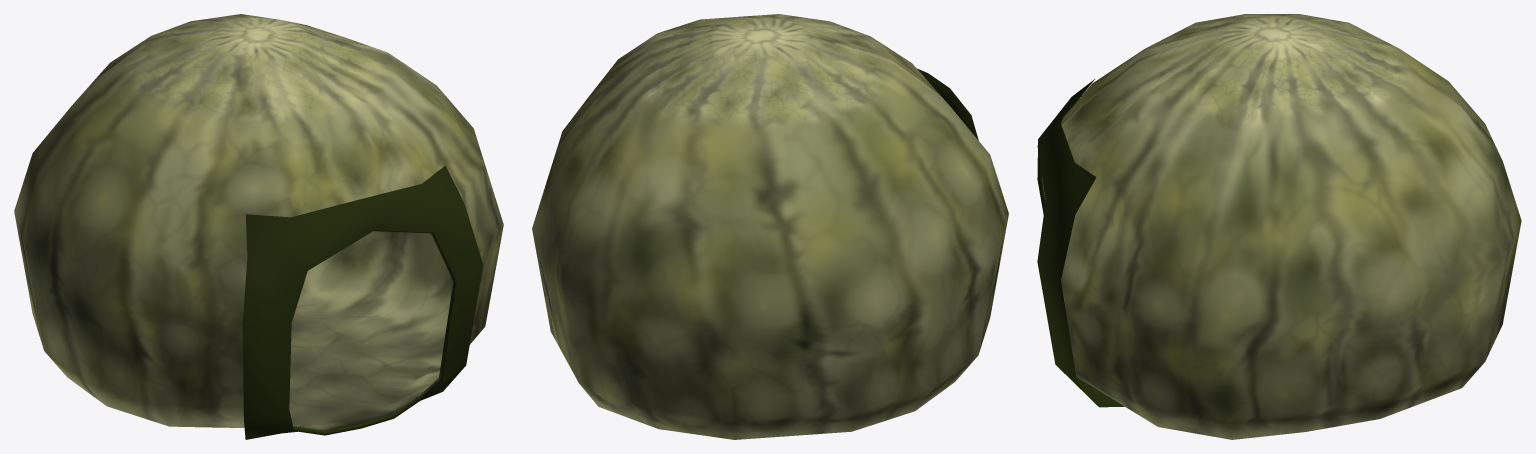
The model's file is workshop.fbx.
The picture shows the model from 3 angles, left to right: view 1: azimuth 30°, elevation 25°; view 2: azimuth 150°, elevation 25°; view 3: azimuth 270°, elevation 25°; orthographic projection.
Visible parts, largest first — view 1: workshop; view 2: workshop; view 3: workshop.
Part boxes in pixels (x1,y1,x2,y2): workshop: (14,14,503,439); workshop: (532,14,1008,439); workshop: (1037,14,1521,439).
Bounding box in the file's own units: 5867 × 4394 × 5809.
1 material, 1 textured.
